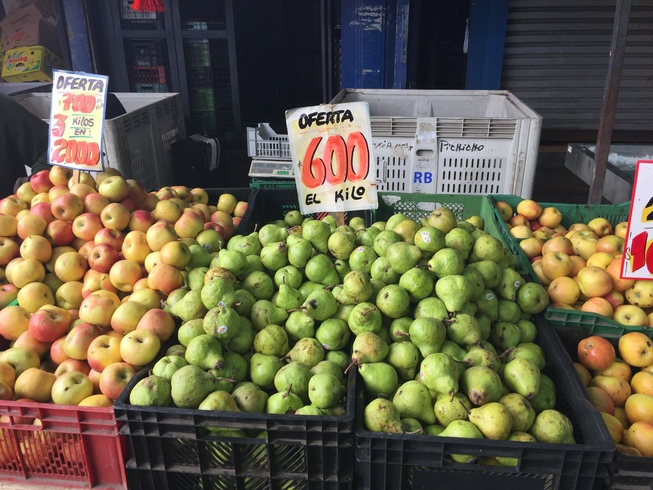precio: (280, 97, 382, 220), (41, 64, 117, 184)
